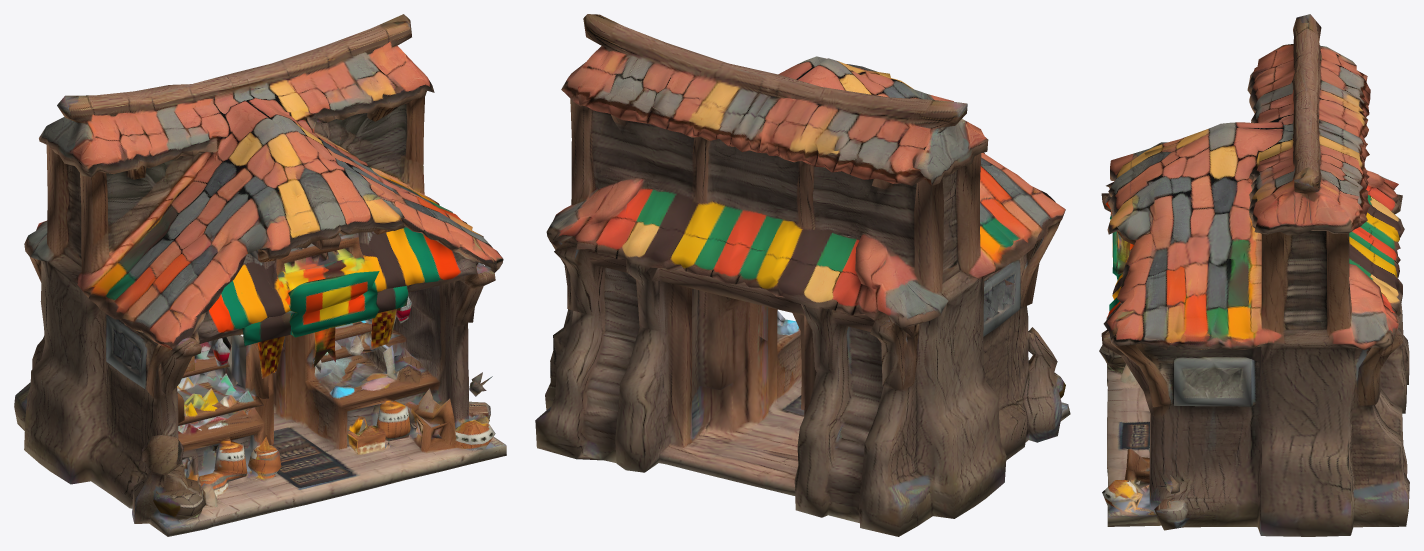
The model's file is shop.glb.
3 renders of one model, left to right at view 1: azimuth 30°, elevation 25°; view 2: azimuth 150°, elevation 25°; view 3: azimuth 270°, elevation 25°, orthographic. The views are drawn at different scales.
Visible parts, largest first — view 1: Mesh_0; view 2: Mesh_0; view 3: Mesh_0.
Part boxes in pixels (left/top/right/bottom): Mesh_0: left=14, top=14, right=506, bottom=536; Mesh_0: left=535, top=14, right=1070, bottom=536; Mesh_0: left=1099, top=14, right=1409, bottom=536.
Size of the model in its own units: 2.72 by 2.5 by 1.99.
Materials: 1 (1 with a texture image).
